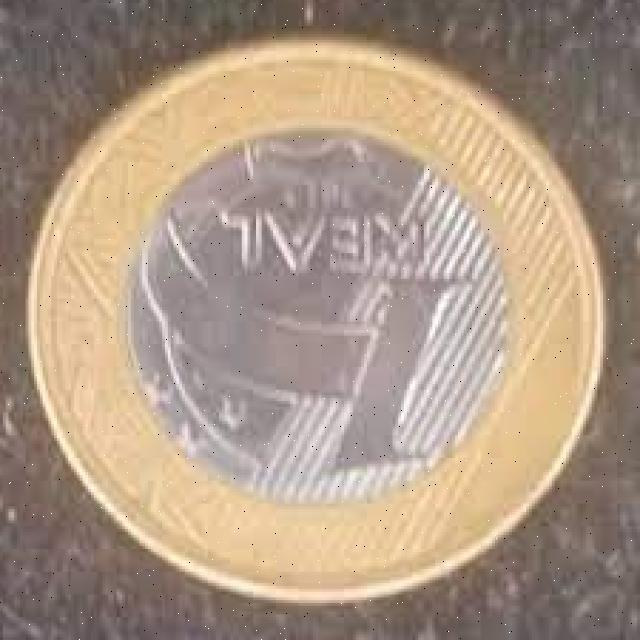1 real: (25, 52, 587, 601)
